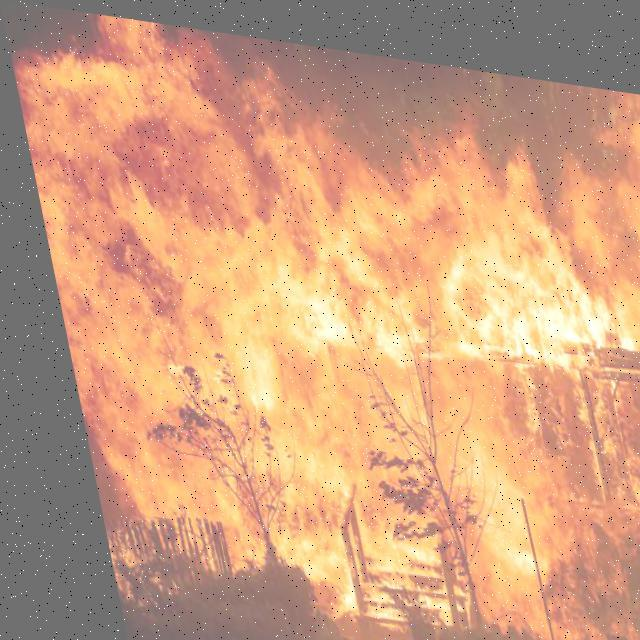Fire: (13, 18, 639, 639)
